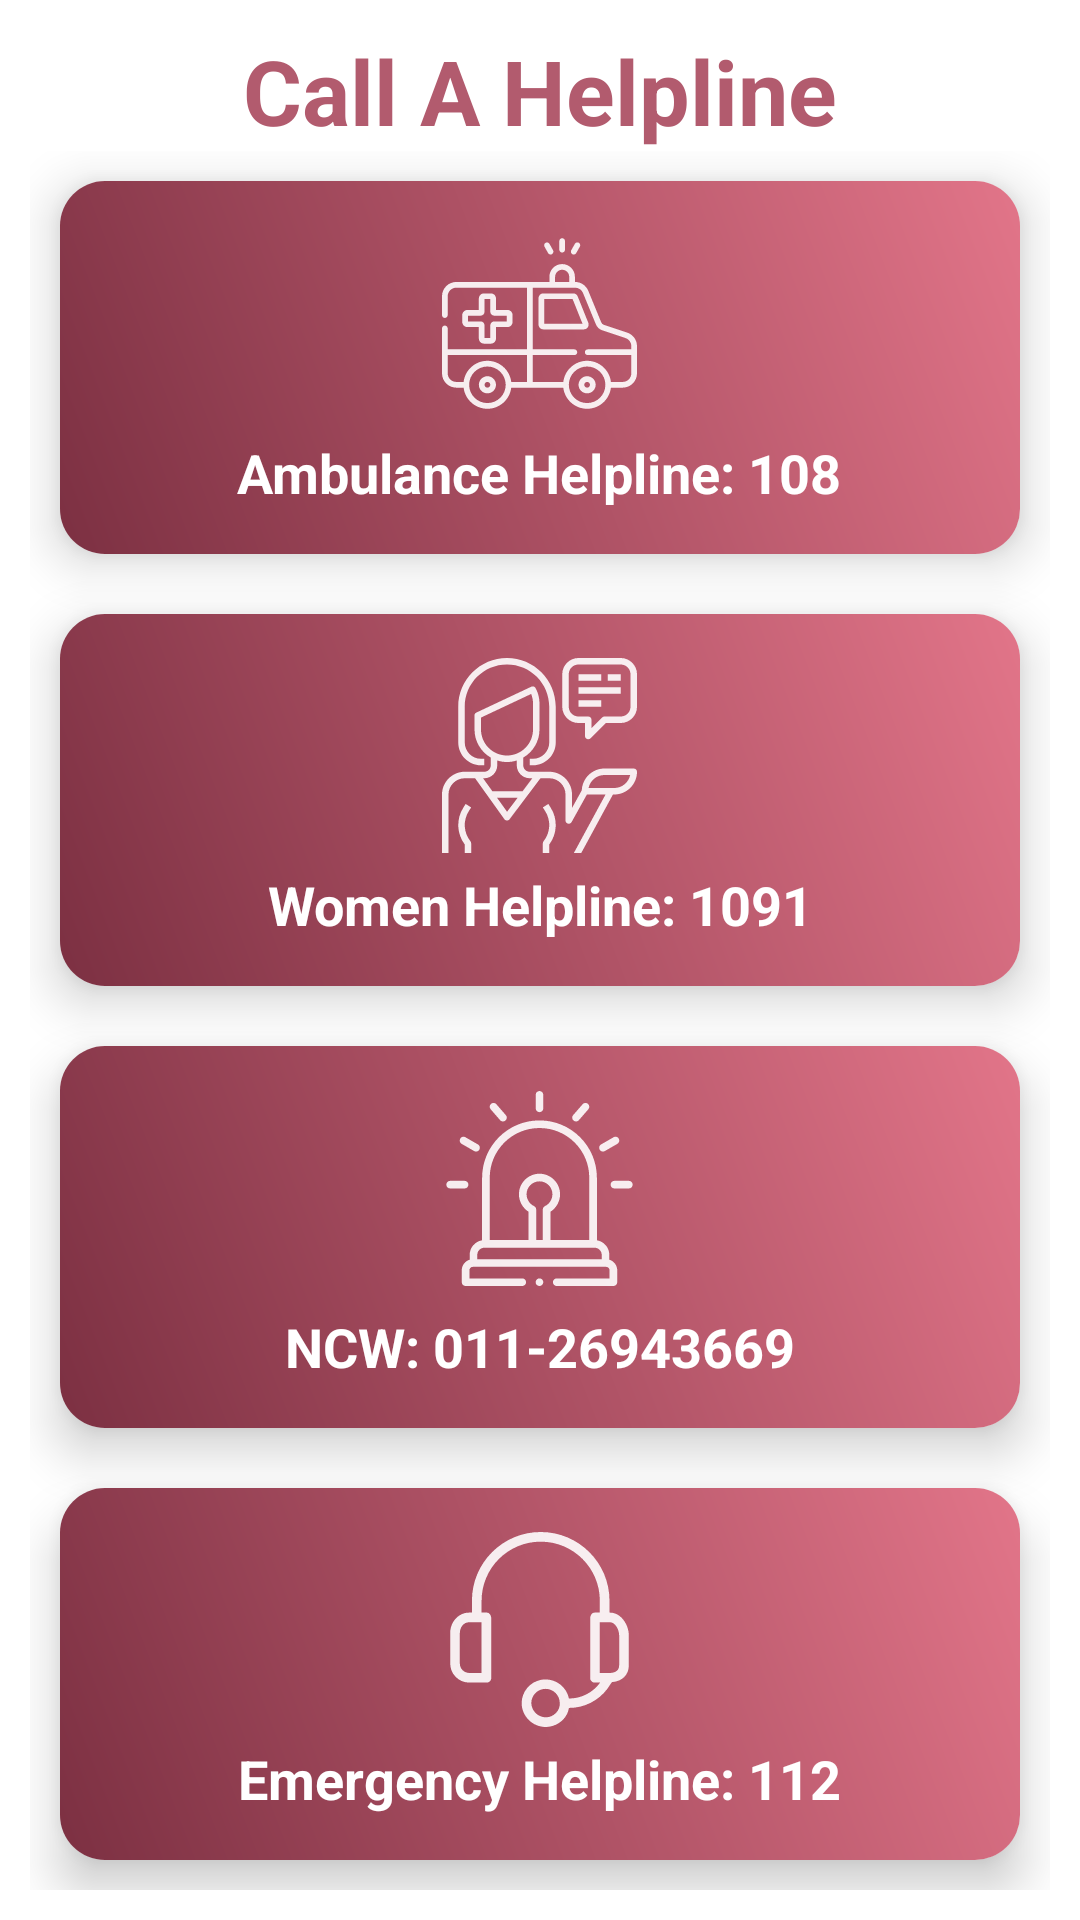

Icon bounding boxes for this 1080px×1920px phone screenshot, format {"left": x1, "top": y1, "right": x2, "bottom": y2}:
emergency: {"left": 446, "top": 1091, "right": 633, "bottom": 1286}
